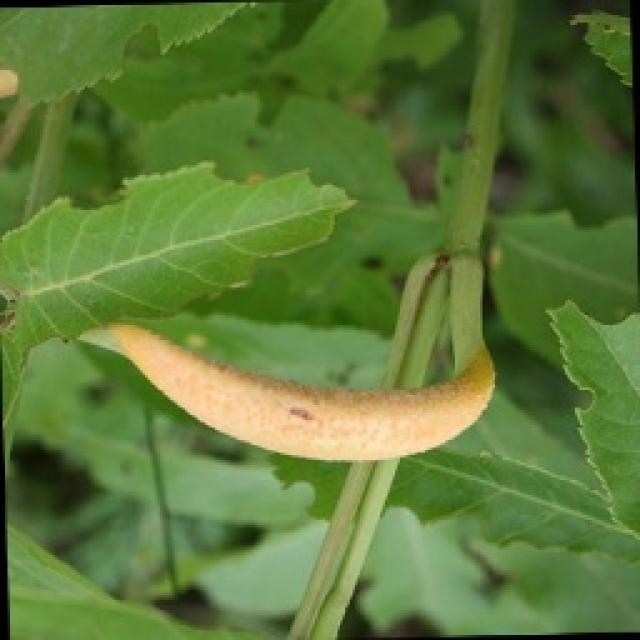Elderberry_rust: (105, 318, 497, 462)
